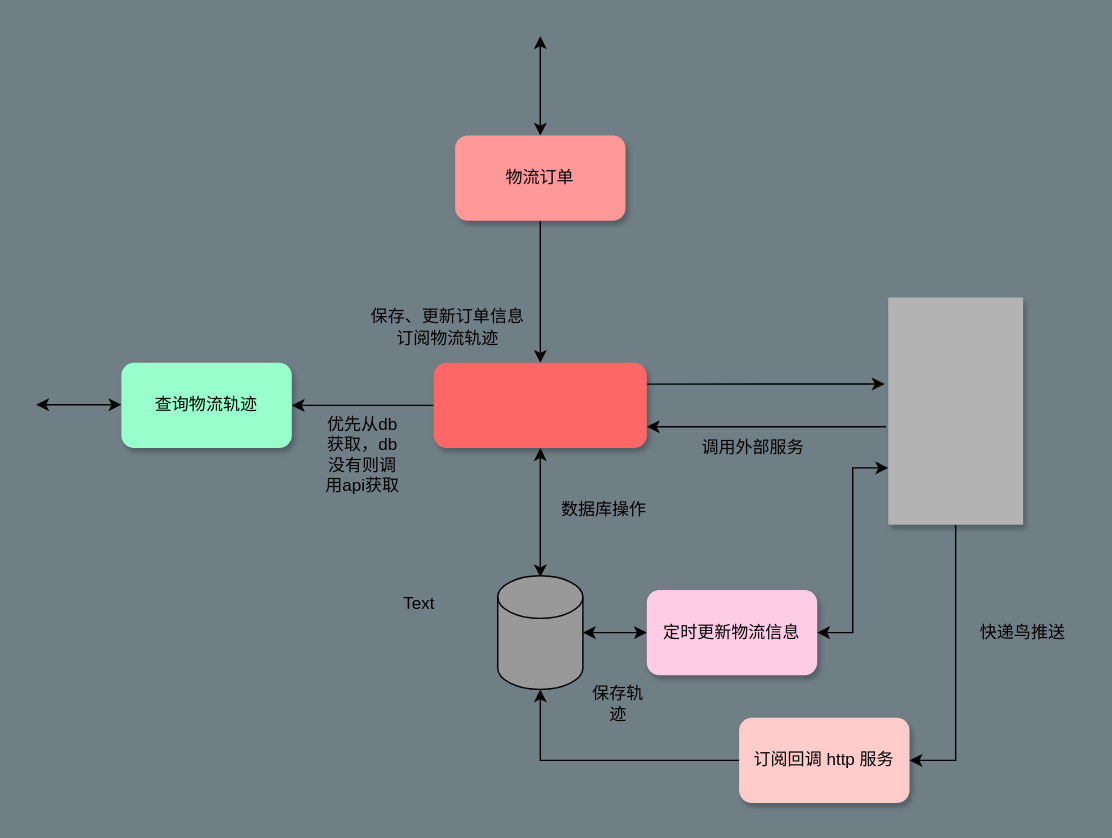
This 1112x838 diagram has some shape labels left out. Each missing label, with the centre of its shape:
"外部服务 快递鸟 京东 顺丰 。。。" goes at [956,412].
"物流服务" goes at [541,406].
